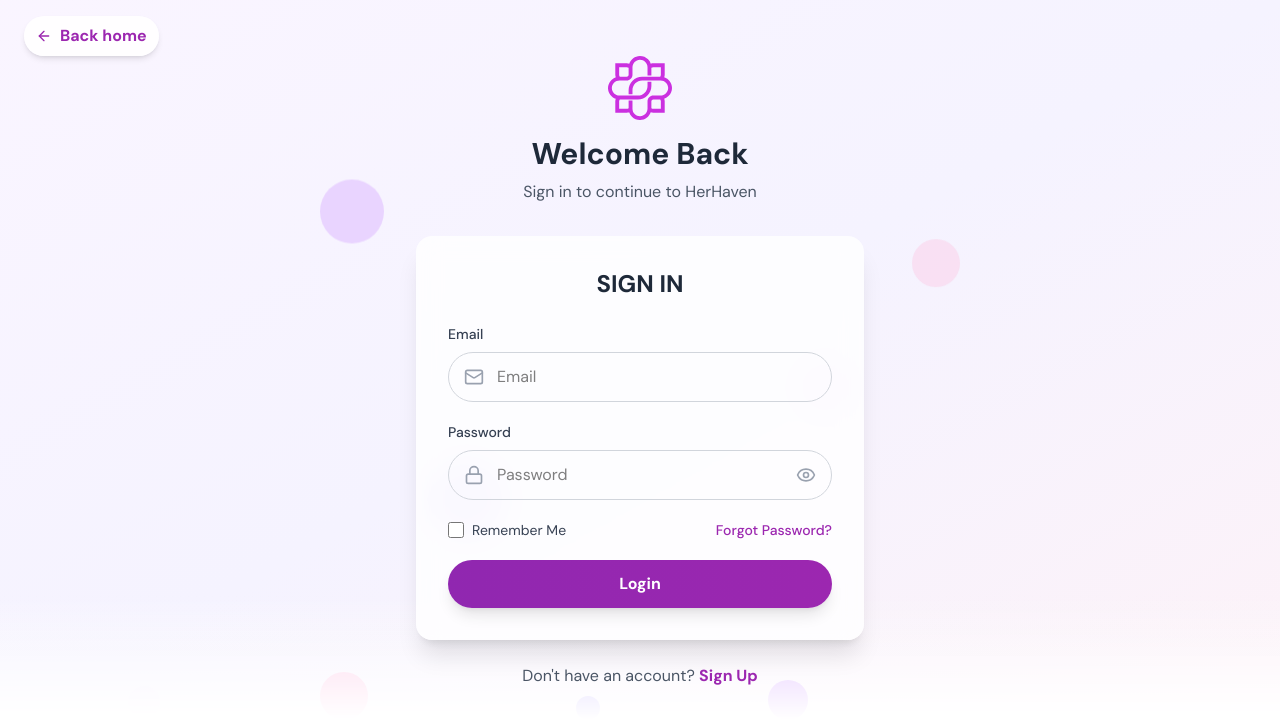
Login Page › should show validation errors for empty fields
This screenshot has width=1280, height=720.
# Submit empty form
Click the submit button at (640, 584), box 448,560 -> 832,608
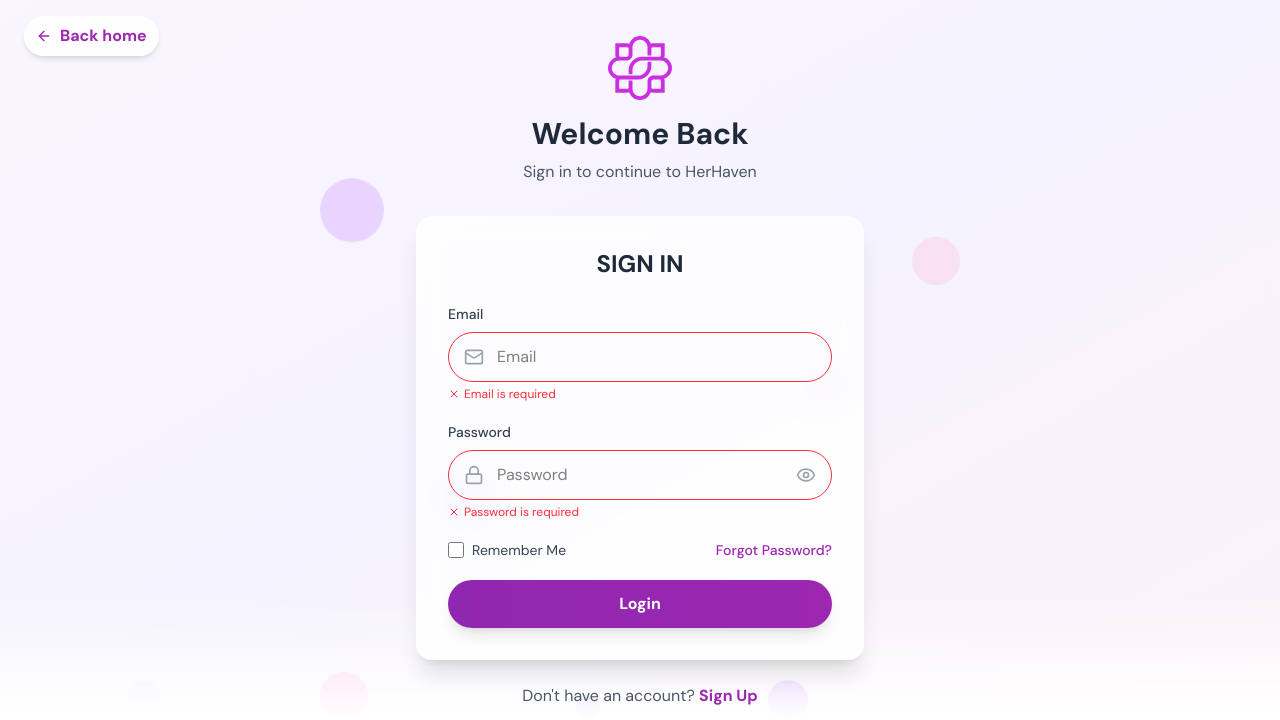
Now the text "Email is required" is shown, box 448,386 -> 556,402
Now the text "Password is required" is shown, box 448,504 -> 579,520
